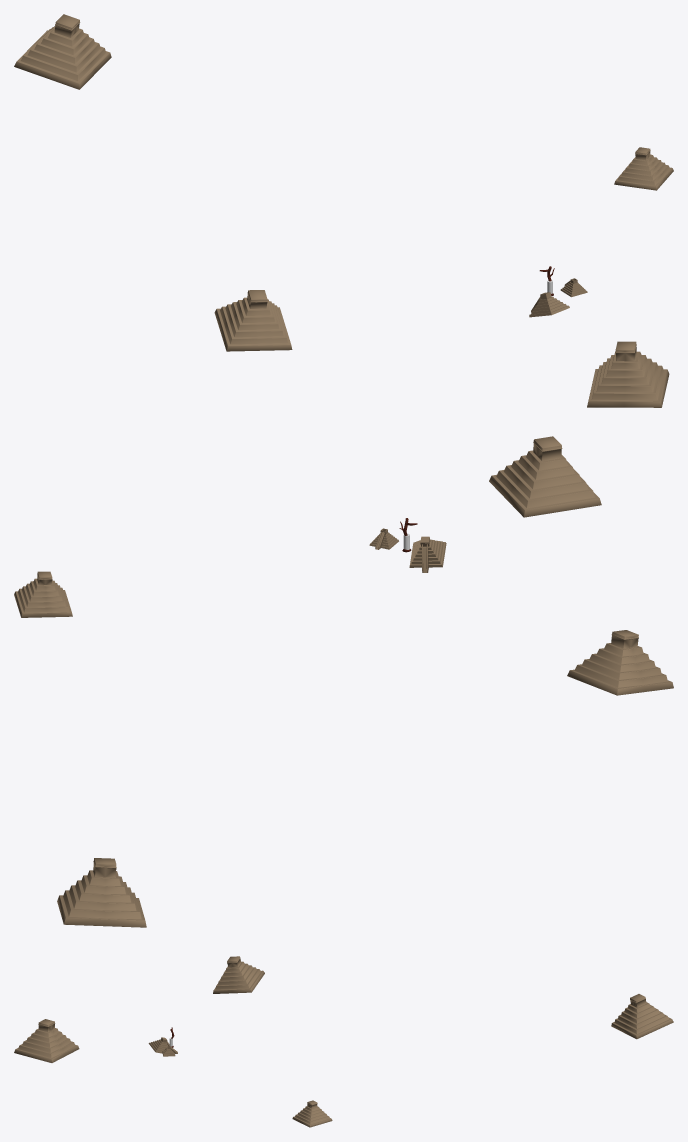
Rendered from cycle_2.glb.
The picture shows the model from 3 angles, top to bottom: view 1: azimuth 30°, elevation 25°; view 2: azimuth 150°, elevation 25°; view 3: azimuth 270°, elevation 25°; orthographic projection. The views are drawn at different scales.
Visible parts, largest first — view 1: Pyramid.005, Pyramid.003, Pyramid.004, Pyramid.006; view 2: Pyramid.003, Pyramid.005, Pyramid.004, Pyramid.006, Pyramid.001; view 3: Pyramid.003, Pyramid.005, Pyramid.004, Pyramid.006.
Part boxes in pixels (x1=…): Pyramid.005: x1=14, y1=14, x2=111, y2=89; Pyramid.003: x1=587, y1=341, x2=669, y2=407; Pyramid.004: x1=214, y1=290, x2=292, y2=351; Pyramid.006: x1=614, y1=147, x2=673, y2=190; Pyramid.003: x1=489, y1=436, x2=601, y2=517; Pyramid.005: x1=57, y1=858, x2=146, y2=927; Pyramid.004: x1=567, y1=630, x2=673, y2=695; Pyramid.006: x1=14, y1=571, x2=72, y2=617; Pyramid.001: x1=409, y1=536, x2=446, y2=567; Pyramid.003: x1=14, y1=1019, x2=79, y2=1062; Pyramid.005: x1=611, y1=994, x2=673, y2=1039; Pyramid.004: x1=213, y1=956, x2=264, y2=993; Pyramid.006: x1=292, y1=1100, x2=332, y2=1127.
Size of the model in its own units: 725 by 72.26 by 1292.
